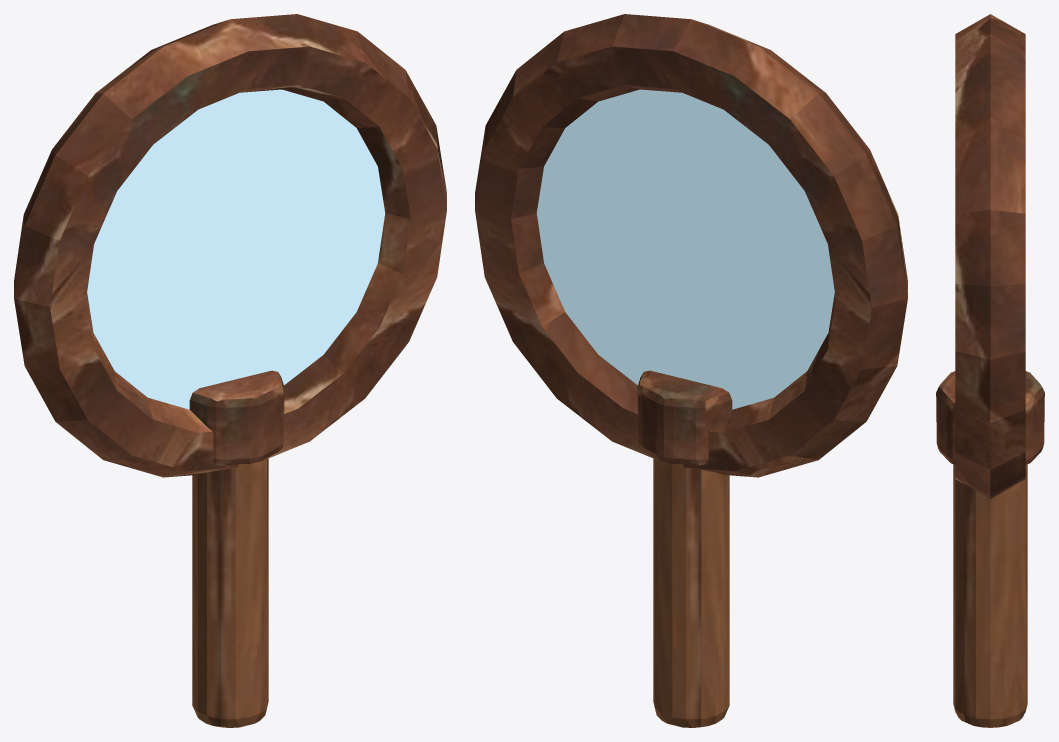
File: prospectors_lens.glb
3 views of the same model, side by side, from view 1: azimuth 30°, elevation 25°; view 2: azimuth 150°, elevation 25°; view 3: azimuth 270°, elevation 25° (orthographic). The views are drawn at different scales.
Visible parts, largest first — view 1: model; view 2: model; view 3: model.
Boxes of the visible parts, <box> form: model: <box>14,14,446,727</box>; model: <box>475,14,907,727</box>; model: <box>936,14,1044,727</box>.
Bounding box in the file's own units: 0.192 × 0.296 × 0.0427.
Materials: 3 (2 with a texture image).
